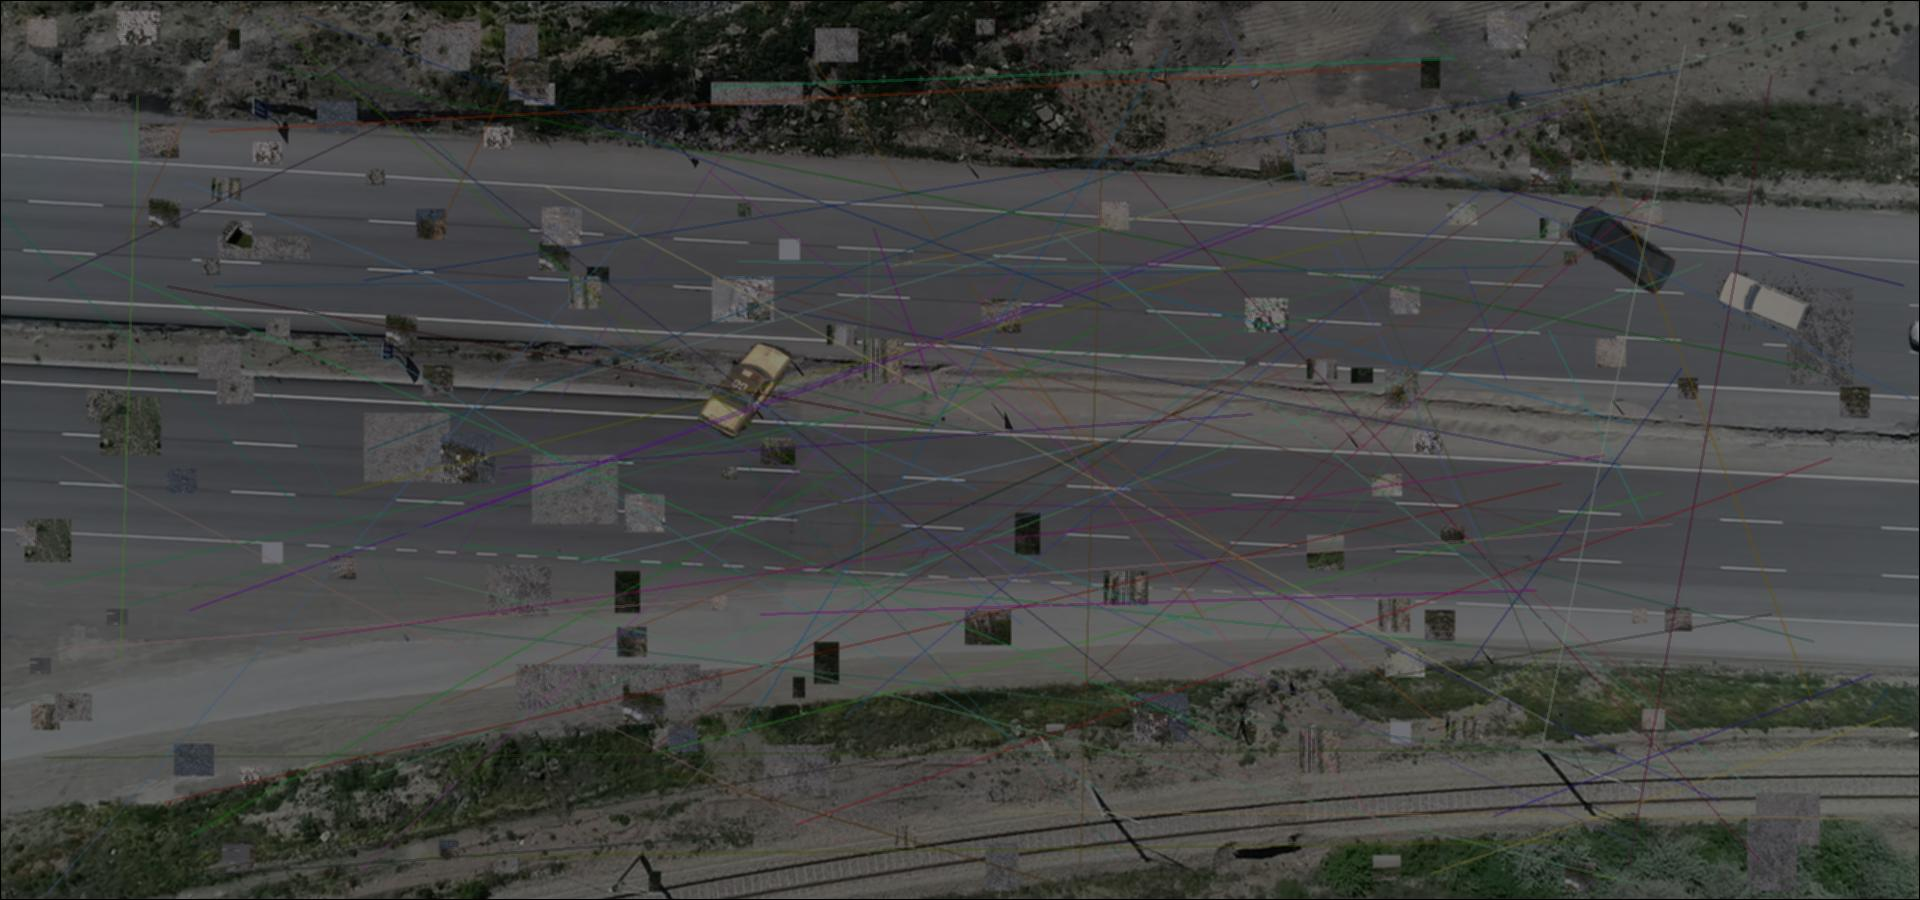arac: (1569, 206, 1678, 294), (698, 340, 792, 440), (1713, 269, 1812, 331)
